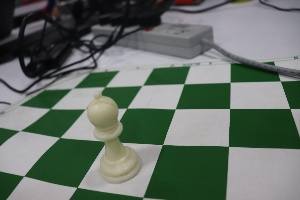white_bishop: (72, 82, 146, 186)
